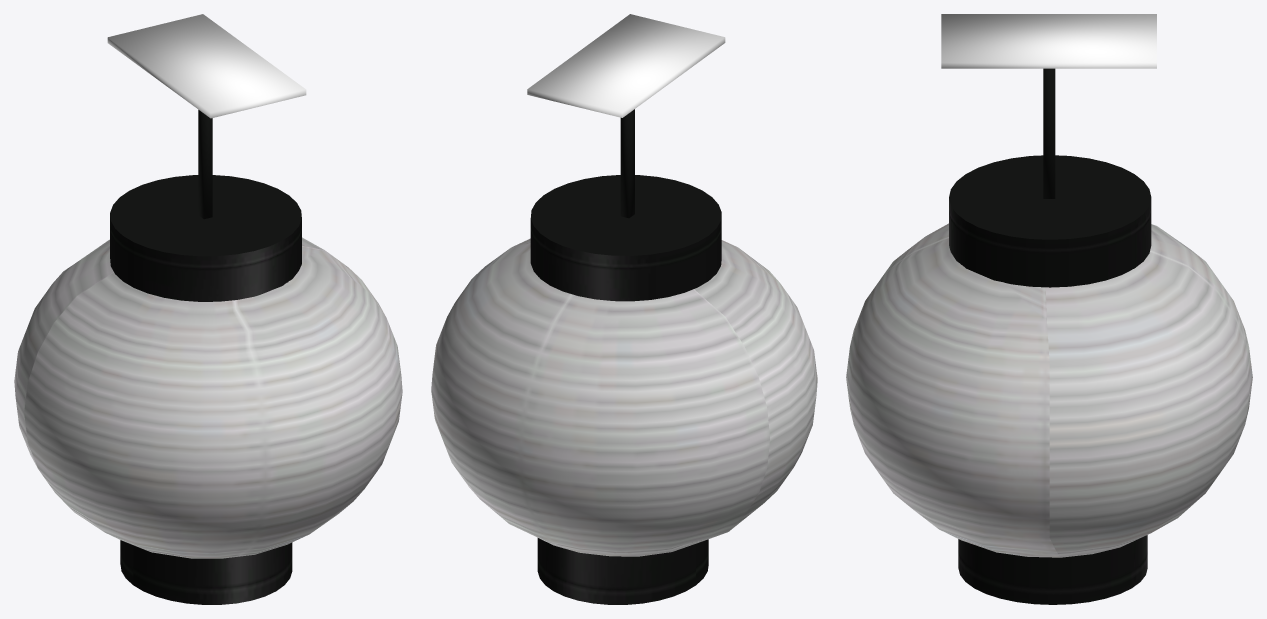
File: Lantern1.b.fbx
3 renders of one model, left to right at view 1: azimuth 30°, elevation 25°; view 2: azimuth 150°, elevation 25°; view 3: azimuth 270°, elevation 25°, orthographic. The views are drawn at different scales.
Visible parts, largest first — view 1: Group 0; view 2: Group 0; view 3: Group 0.
Boxes of the visible parts, x1,y1,x2,y2 form: Group 0: (14,14,402,604); Group 0: (431,14,817,604); Group 0: (846,14,1252,604).
Bounding box in the file's own units: 49.4 × 70.83 × 49.4.
1 material, 1 textured.
